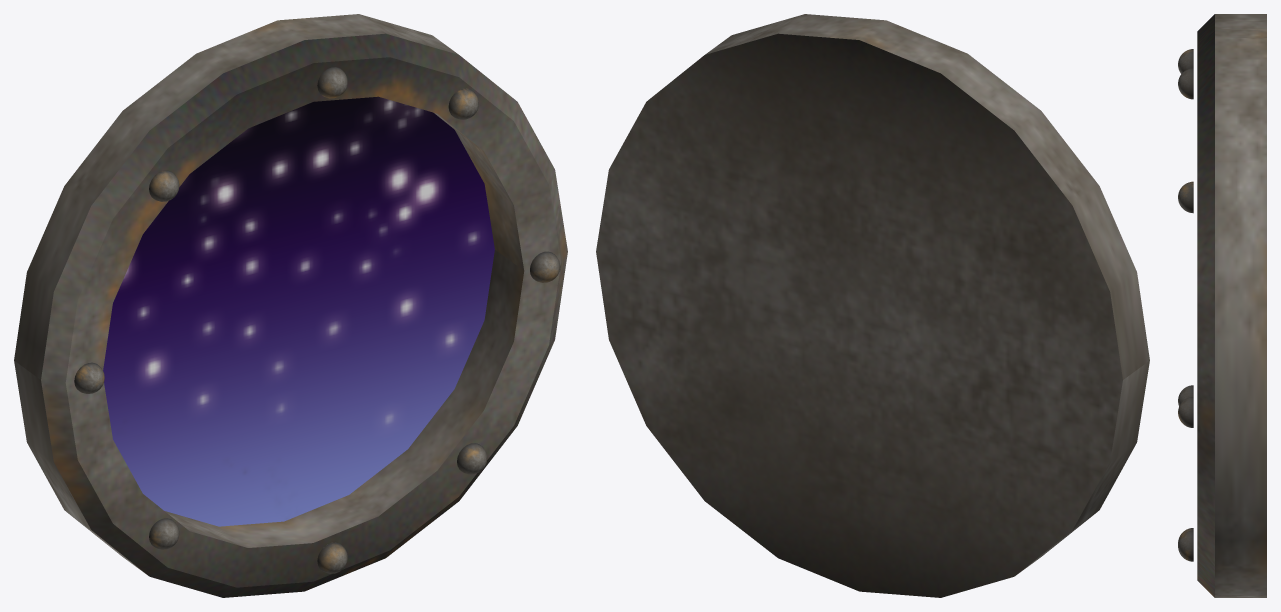
The model's file is Window.fbx.
The picture shows the model from 3 angles, left to right: view 1: azimuth 30°, elevation 25°; view 2: azimuth 150°, elevation 25°; view 3: azimuth 270°, elevation 25°; orthographic projection. The views are drawn at different scales.
Visible parts, largest first — view 1: pCylinder22; view 2: pCylinder22; view 3: pCylinder22.
Boxes of the visible parts, bbox=[...] form: pCylinder22: bbox=[14, 14, 567, 597]; pCylinder22: bbox=[596, 14, 1149, 597]; pCylinder22: bbox=[1178, 14, 1266, 597].
Bounding box in the file's own units: 6.35 × 6.35 × 0.9598.
